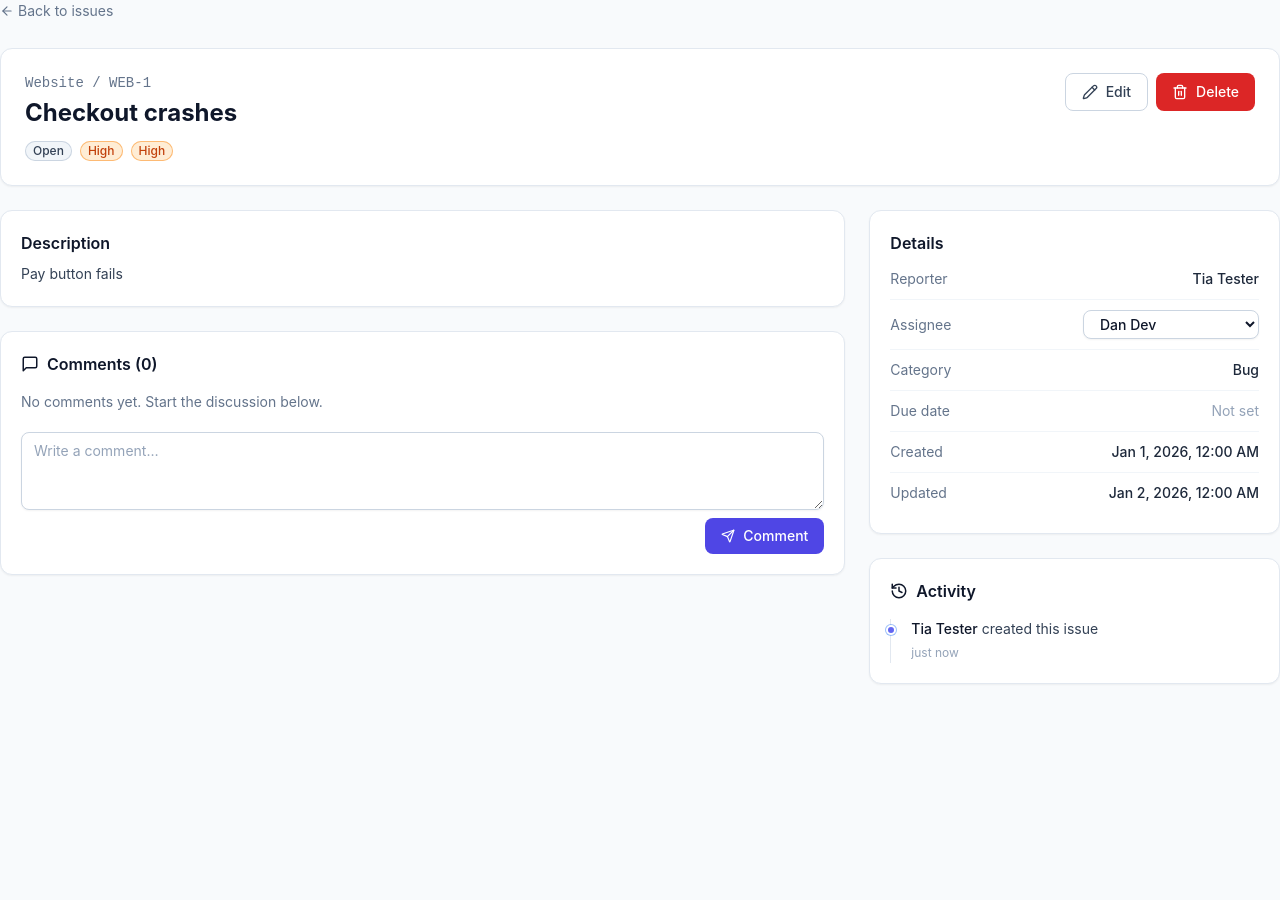
Test: Issue details page respects capabilities › Admin gets an assignee dropdown and delete needs confirmation
The width and height of the screenshot is (1280, 900).
Expected: the dropdown named "Assignee" is shown, [1083,310,1259,339]
Click the button "Delete" at (1206, 92), box [1156,73,1255,111]
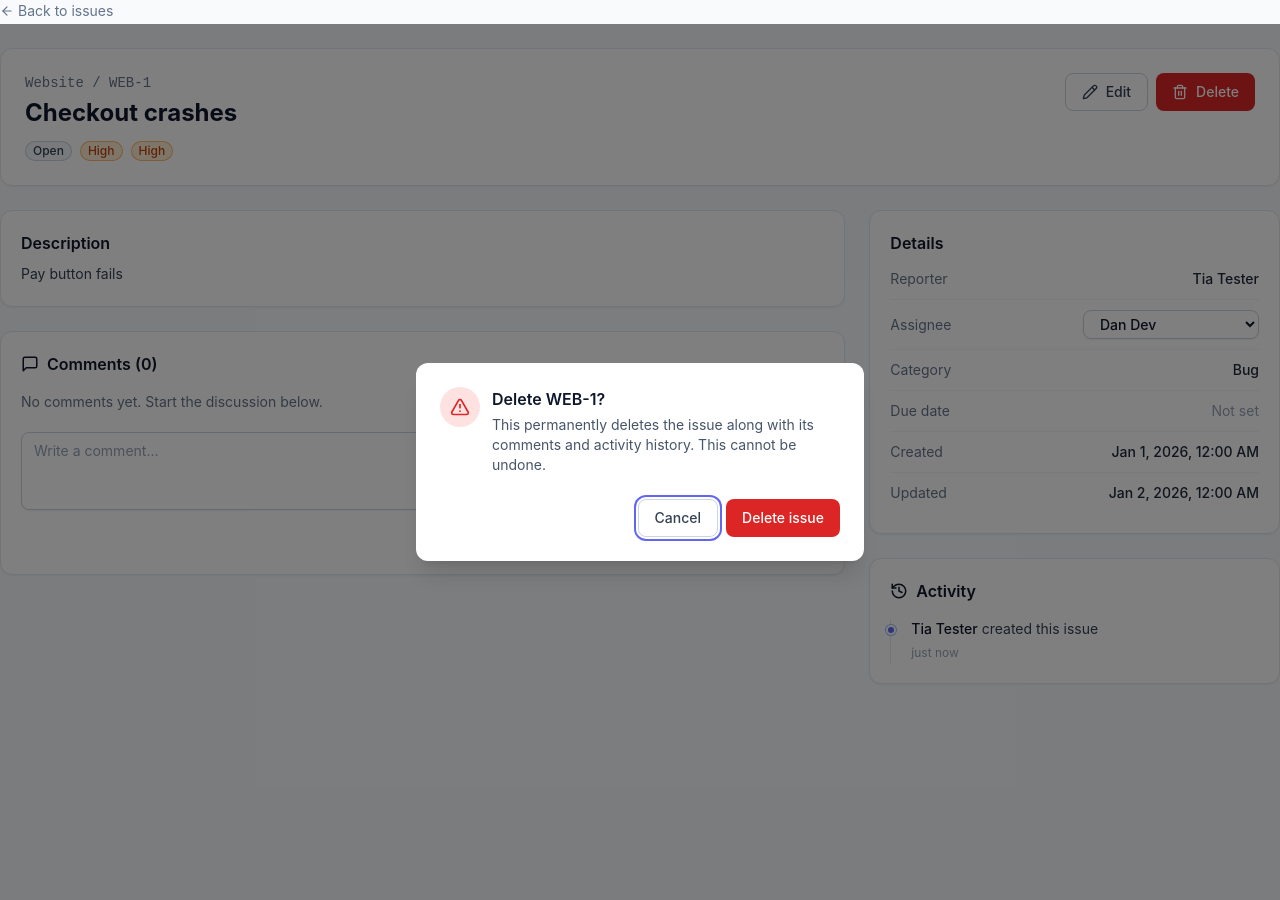
Expected: the dialog shows "cannot be undone", [492,416,814,473]
Click the button "Cancel" at (678, 518), box [638,499,718,537]
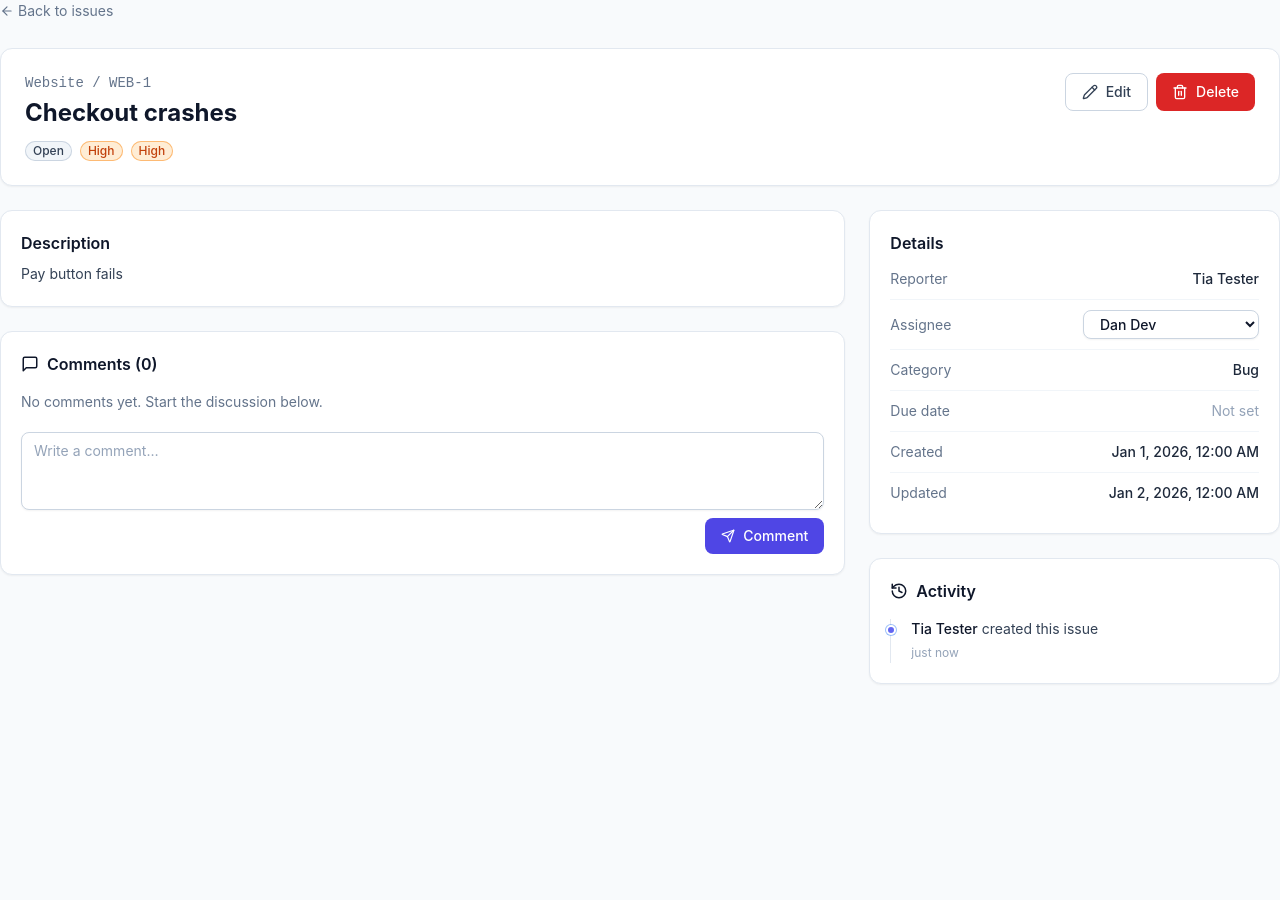
Expected: the dialog is gone
